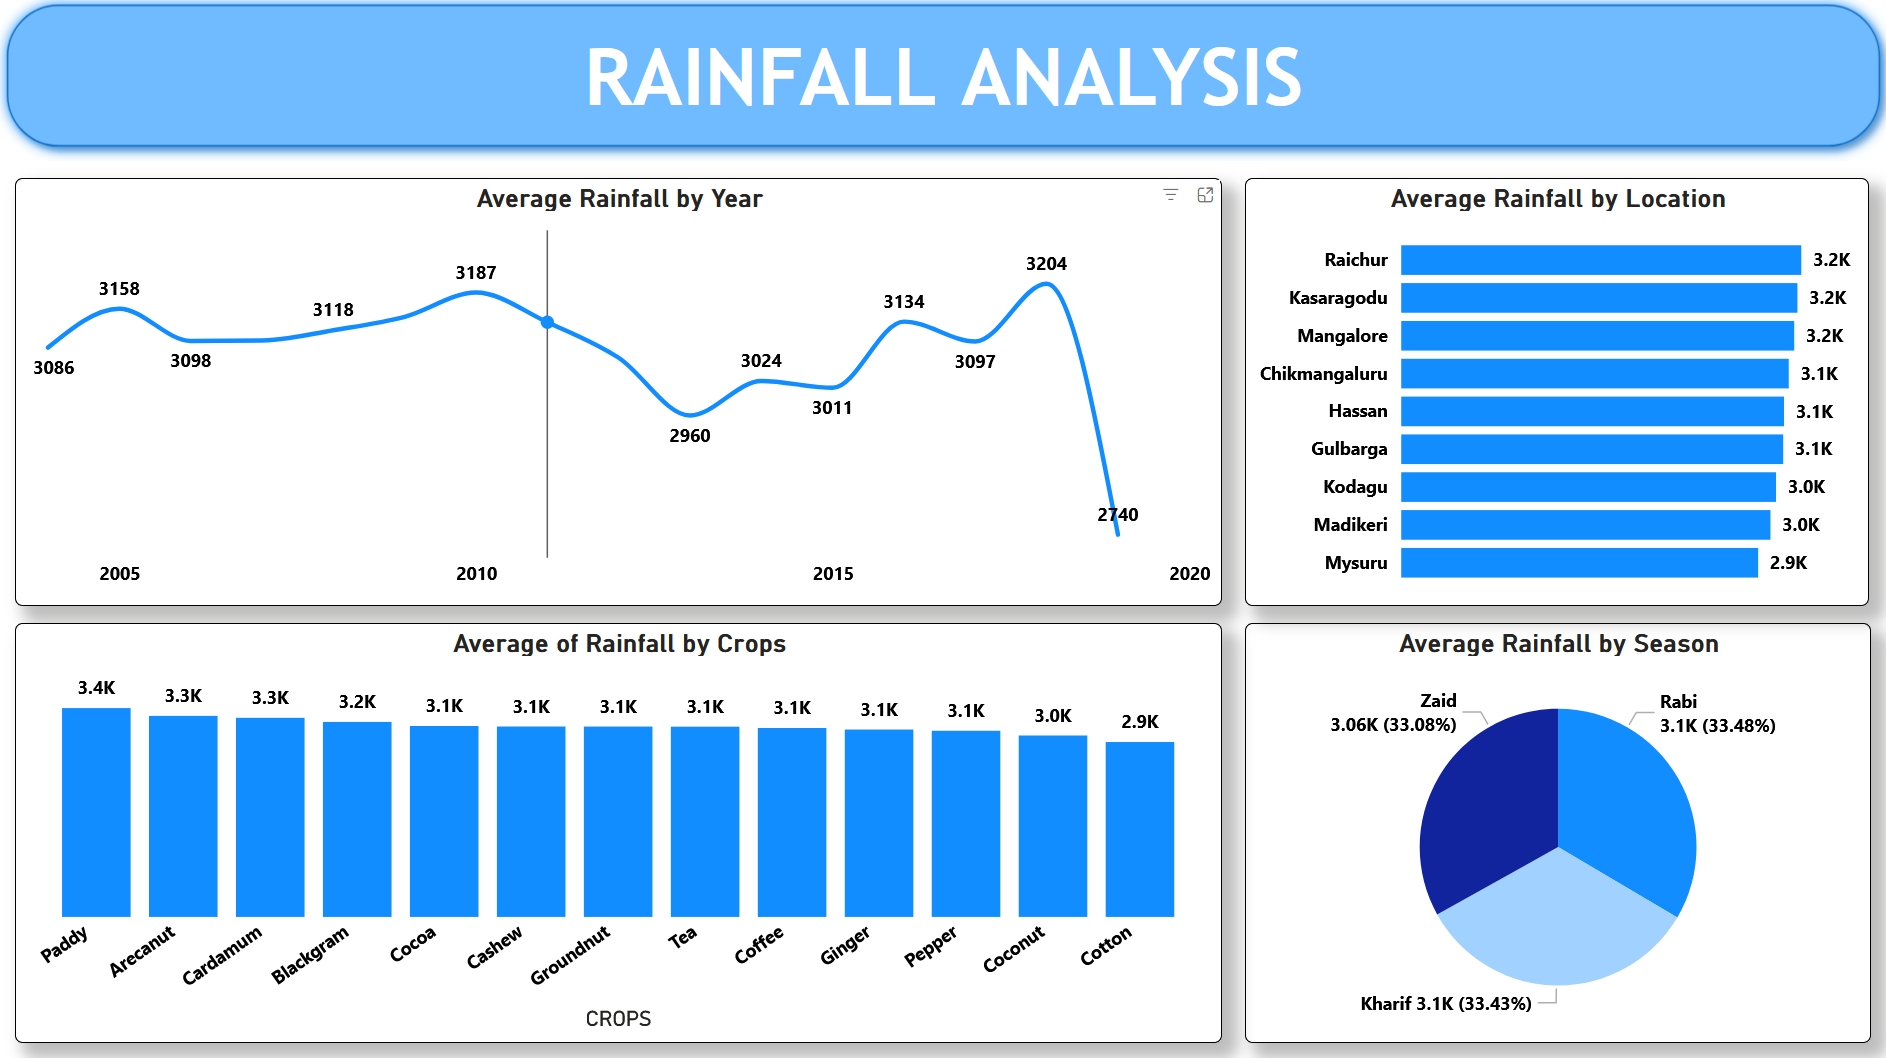

The dashboard page shown, as its layout file describes it:
{"tool":"powerbi","page":{"name":"Rainfall Aanalysis","canvas":[1280,720],"ordinal":1},"visuals":[{"type":"shape","box":[0,0,1280,113.6],"z":0},{"type":"lineChart","title":"Average Rainfall by Year","fields":{"Category":["AGRICULTURE.YEAR"],"Y":["Avg(AGRICULTURE.RAINFALL)"]},"box":[13.9,125.5,812.8,287.9],"z":1000},{"type":"pieChart","title":"Average Rainfall by Season","fields":{"Y":["Avg(AGRICULTURE.RAINFALL)"],"Category":["AGRICULTURE.SEASON"]},"box":[842.7,425.3,421.4,282.9],"z":2000},{"type":"columnChart","title":"Average of Rainfall by Crops","fields":{"Category":["AGRICULTURE.CROPS"],"Y":["Avg(AGRICULTURE.RAINFALL)"]},"box":[13.9,425.3,812.8,282.9],"z":3000},{"type":"barChart","title":"Average Rainfall by Location","fields":{"Category":["AGRICULTURE.LOCATION"],"Y":["Avg(AGRICULTURE.RAINFALL)"]},"box":[842.7,125.5,420.4,287.9],"z":4000}]}

Visuals, with their boxes in screenshot pixels (x1, y1, x2, y2), scaled from the page's 1280x720 canvas onto the 1886x1058 screenshot:
shape: select_region(0, 0, 1885, 167)
"Average Rainfall by Year" lineChart: select_region(20, 184, 1218, 607)
"Average Rainfall by Season" pieChart: select_region(1242, 625, 1863, 1041)
"Average of Rainfall by Crops" columnChart: select_region(20, 625, 1218, 1041)
"Average Rainfall by Location" barChart: select_region(1242, 184, 1861, 607)
